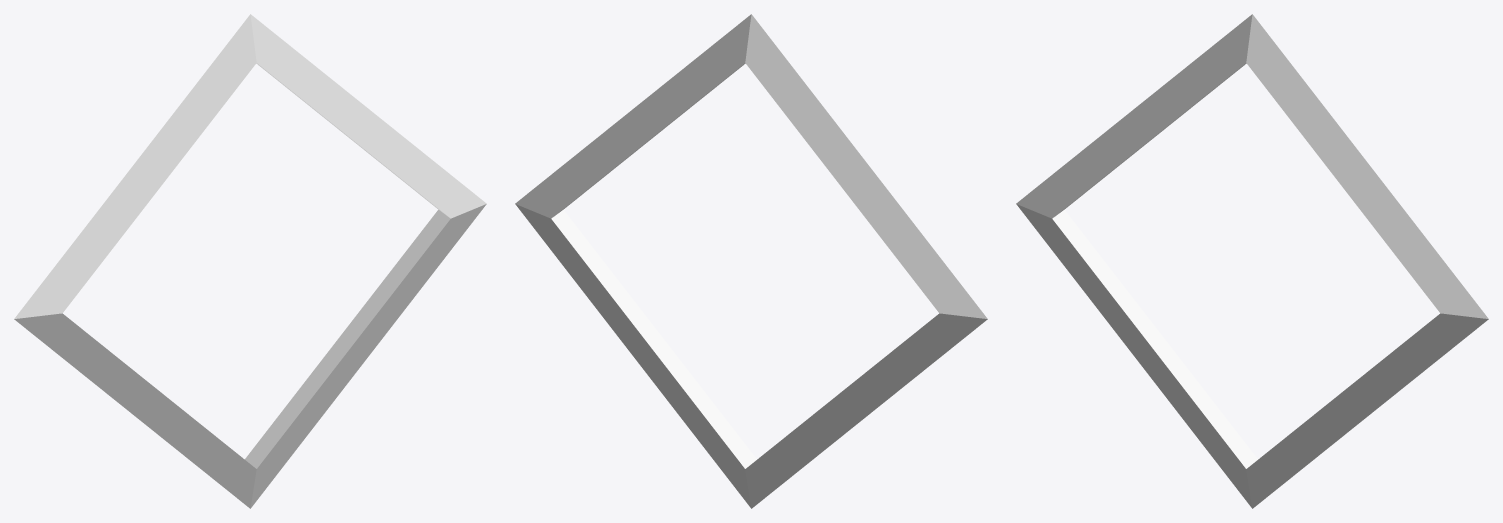
Rendered from outsideCore.obj.
3 views of the same model, side by side, from view 1: azimuth 30°, elevation 25°; view 2: azimuth 150°, elevation 25°; view 3: azimuth 330°, elevation 25° (orthographic).
Visible parts, largest first — view 1: outsideCore_outside.001; view 2: outsideCore_outside.001; view 3: outsideCore_outside.001.
Boxes of the visible parts, left/top/right/bottom form: outsideCore_outside.001: left=14, top=14, right=486, bottom=508; outsideCore_outside.001: left=515, top=14, right=987, bottom=508; outsideCore_outside.001: left=1016, top=14, right=1488, bottom=508.
Bounding box in the file's own units: 4.4 × 4.4 × 0.2008.
1 material, 1 textured.
